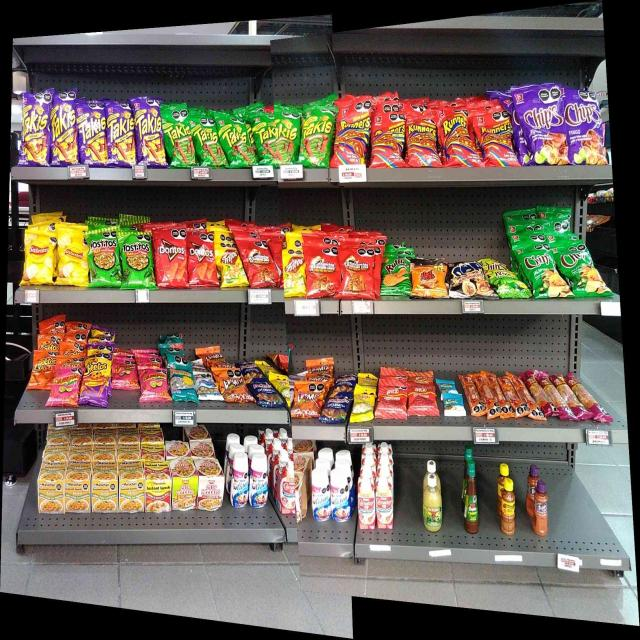bitzAlmendras: (444, 394, 464, 416)
bitzEnchilado90: (377, 378, 406, 419), (408, 382, 438, 416)
bitzEnchilado95: (466, 374, 526, 417)
bitzHabanero: (530, 373, 592, 421)
bokadosCacahuates: (247, 379, 273, 406), (325, 393, 349, 422)
botaneraChilito: (500, 480, 516, 536)
cheetosFlaminHot: (82, 356, 110, 404)
cheetosOriginal: (34, 350, 54, 389), (38, 334, 61, 349)
chipsFuego: (517, 88, 563, 164), (565, 91, 602, 164)
chipsJalapeno: (556, 242, 598, 298), (529, 240, 554, 296)
chipsPapatinas: (486, 265, 527, 299)
churrumais: (56, 367, 79, 406), (139, 368, 167, 400), (112, 353, 136, 389)
delPrimoSalsa: (423, 475, 442, 531)
doritosNacho: (155, 230, 186, 288), (187, 231, 213, 287)
fritosLimon: (215, 246, 243, 287), (282, 251, 304, 296)
hotNutsOriginal: (412, 262, 446, 297)
leoCacahuates: (195, 371, 215, 402)
leoMix: (294, 381, 320, 416), (218, 369, 245, 402), (306, 360, 332, 374)
maruchanPollo: (38, 460, 63, 515), (92, 461, 118, 513), (65, 461, 90, 512), (120, 461, 145, 512)
maruchanRes: (146, 458, 170, 512)
nestleCarnation: (358, 476, 375, 531), (277, 467, 296, 513), (377, 480, 393, 527)
nestleLechera: (311, 470, 330, 522), (332, 472, 351, 520), (232, 454, 248, 508), (251, 454, 267, 506)
nissinCamaron: (172, 458, 197, 510)
nissinRes: (198, 458, 224, 510)
popKarameladas: (448, 262, 483, 296)
rancheritos: (340, 246, 376, 300), (307, 244, 338, 298), (246, 239, 277, 287)
rufflesQueso: (383, 252, 411, 297)
runners: (474, 111, 514, 167), (336, 102, 371, 162), (441, 110, 472, 166), (373, 114, 404, 167), (406, 120, 439, 167)
sabritasOriginal: (59, 223, 87, 285), (24, 231, 56, 285)
salsaBufalo: (464, 458, 479, 533)
semillasCalabaza: (350, 385, 374, 422), (274, 374, 290, 405)
semillasGirasol: (169, 366, 194, 402)
tajinDulce: (534, 483, 549, 536)
takisFuego: (23, 93, 50, 165), (108, 103, 138, 166), (78, 103, 107, 166), (140, 98, 163, 167), (52, 100, 76, 163)
takisOriginal: (218, 116, 254, 168), (301, 107, 331, 167), (164, 107, 190, 167), (191, 119, 216, 165), (278, 113, 299, 164), (255, 116, 277, 164)
tostitos: (121, 232, 153, 288), (88, 231, 120, 286)
